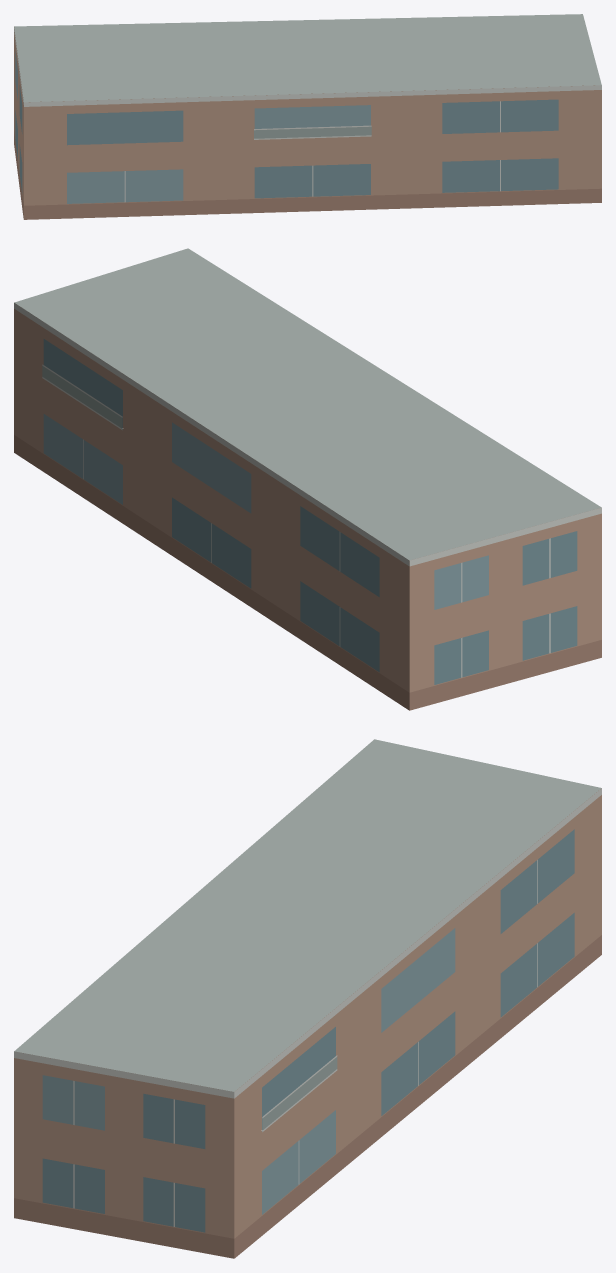
File: survey-upis-32777435.glb
3 views of the same model, one above another, from view 1: azimuth 30°, elevation 25°; view 2: azimuth 150°, elevation 25°; view 3: azimuth 270°, elevation 25° (orthographic). The views are drawn at different scales.
Visible parts, largest first — view 1: survey-upis-32777435.tmp; view 2: survey-upis-32777435.tmp; view 3: survey-upis-32777435.tmp.
Boxes of the visible parts, bbox=[...] form: survey-upis-32777435.tmp: bbox=[14, 14, 601, 219]; survey-upis-32777435.tmp: bbox=[14, 248, 601, 710]; survey-upis-32777435.tmp: bbox=[14, 739, 601, 1258].
Bounding box in the file's own units: 27.69 × 6.1 × 19.5.
